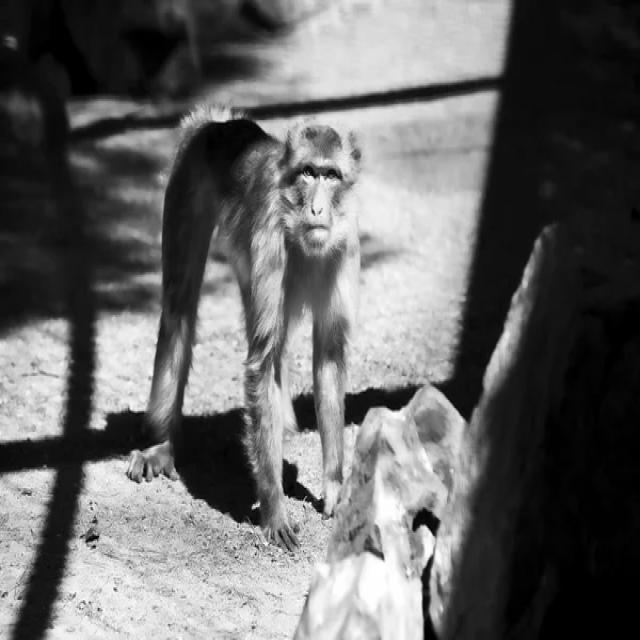Animal: (127, 109, 362, 551)
